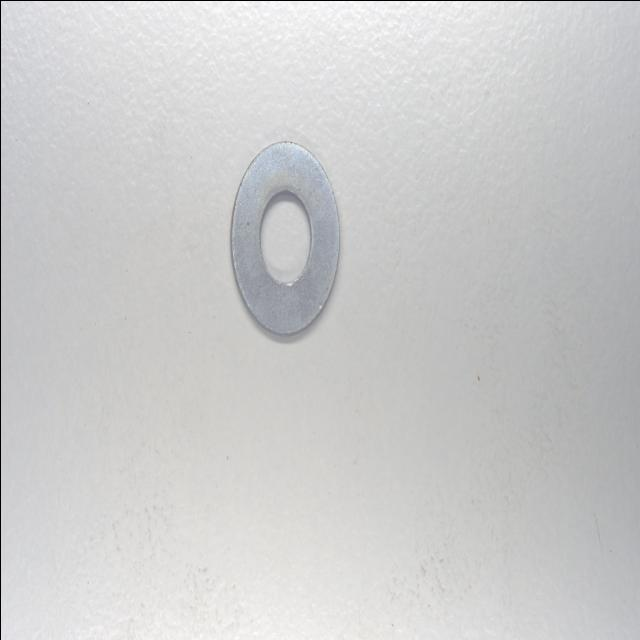washer: (227, 138, 341, 335)
